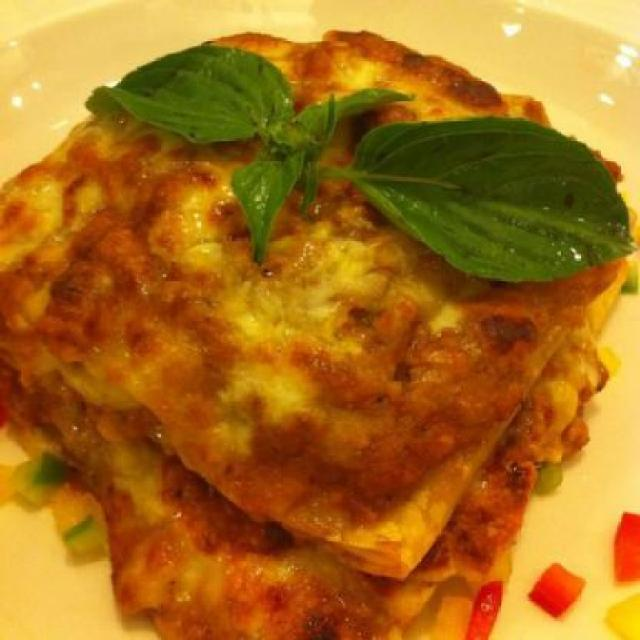Lasagna: (19, 35, 583, 588)
